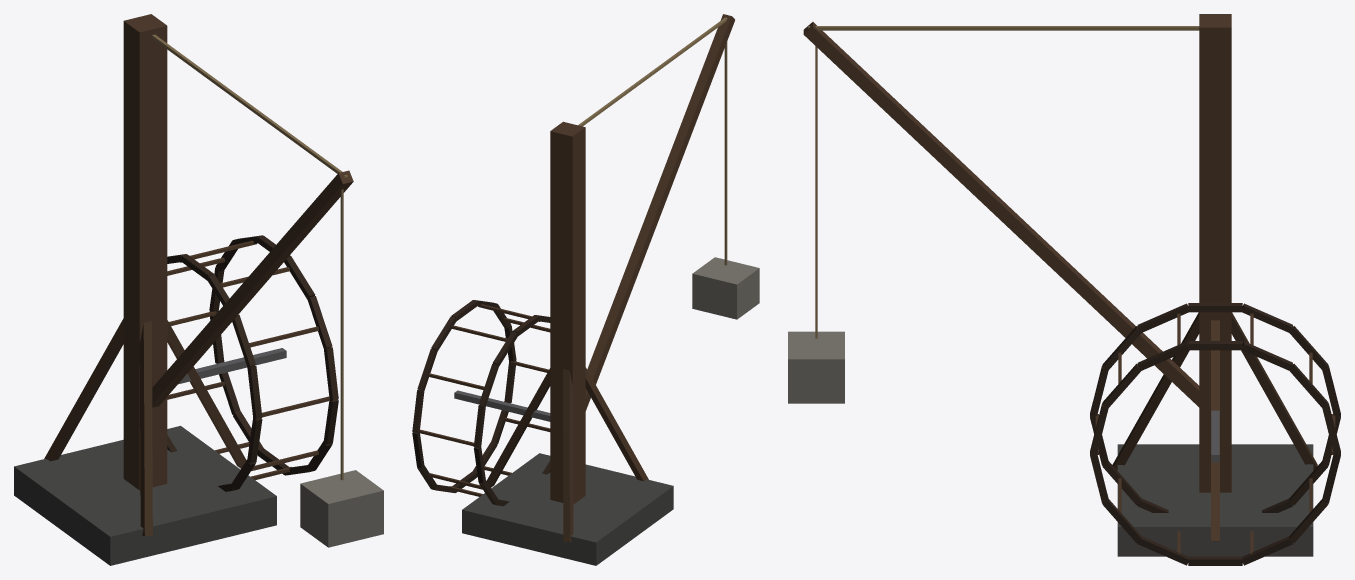
The model's file is walk_prop_crane.glb.
3 renders of one model, left to right at view 1: azimuth 30°, elevation 25°; view 2: azimuth 150°, elevation 25°; view 3: azimuth 270°, elevation 25°, orthographic. The views are drawn at different scales.
Parts seen in each view (by area): view 1: walk_prop_crane; view 2: walk_prop_crane; view 3: walk_prop_crane.
Part boxes in pixels (x1,y1,x2,y2): walk_prop_crane: (14,14,383,565); walk_prop_crane: (412,14,759,565); walk_prop_crane: (788,14,1340,565).
Size of what is drawn, in the model's own units: 3.2 by 6.7 by 6.79.
2 materials, 2 textured.
